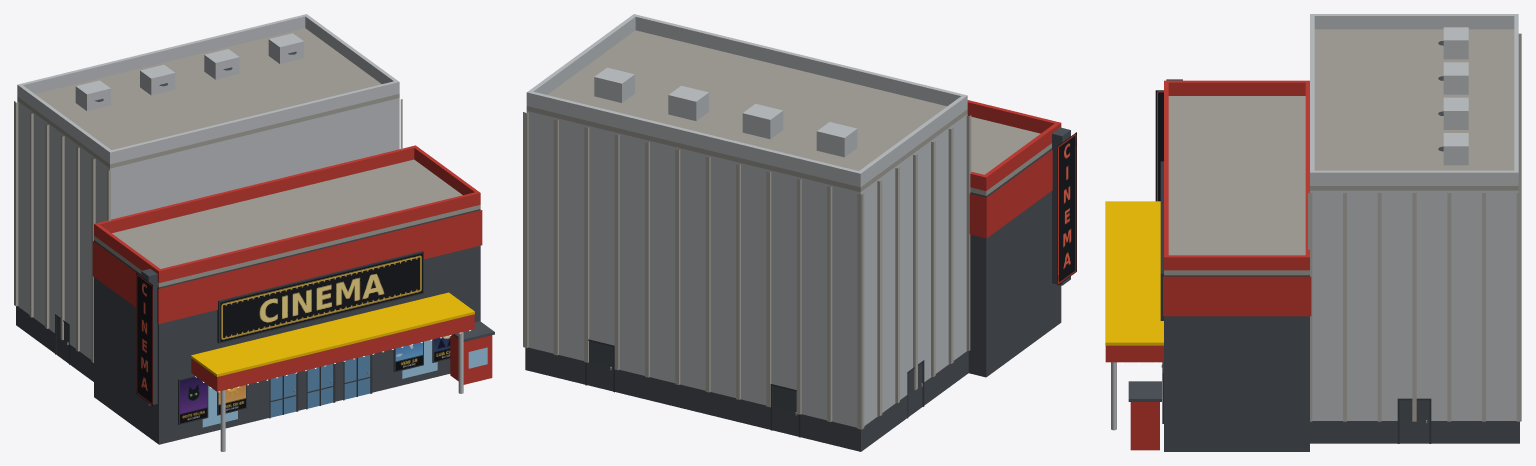
File: cinema.glb
The picture shows the model from 3 angles, left to right: view 1: azimuth 30°, elevation 25°; view 2: azimuth 150°, elevation 25°; view 3: azimuth 270°, elevation 25°; orthographic projection. The views are drawn at different scales.
Parts seen in each view (by area): view 1: Telhado, Paredes, Detalhes, Letreiro, VidroLuz, Molduras; view 2: Paredes, Telhado, Detalhes, Letreiro, Portas, Molduras; view 3: Paredes, Telhado, Detalhes, Letreiro, Portas.
Boxes of the visible parts, <box> form: Telhado: <box>17,14,480,287</box>; Paredes: <box>17,98,480,444</box>; Detalhes: <box>14,33,494,451</box>; Letreiro: <box>136,253,450,423</box>; VidroLuz: <box>202,340,487,427</box>; Molduras: <box>55,314,372,418</box>; Paredes: <box>526,111,1061,427</box>; Telhado: <box>526,14,1061,195</box>; Detalhes: <box>523,67,1070,451</box>; Letreiro: <box>1057,132,1076,285</box>; Portas: <box>589,341,922,412</box>; Molduras: <box>585,339,924,437</box>; Paredes: <box>1164,190,1518,451</box>; Telhado: <box>1164,14,1518,275</box>; Detalhes: <box>1105,27,1521,450</box>; Letreiro: <box>1155,90,1163,201</box>; Portas: <box>1399,400,1429,420</box>.
Bounding box in the file's own units: 20.67 × 14.65 × 19.96.
Materials: 19 (7 with a texture image).
